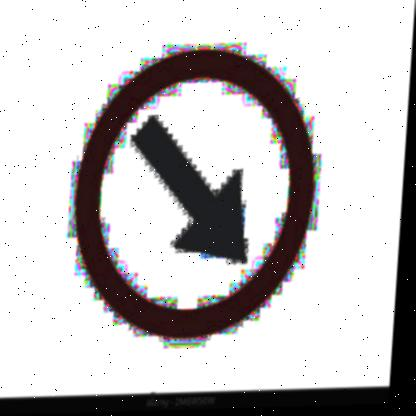Keep right: (65, 36, 333, 349)
